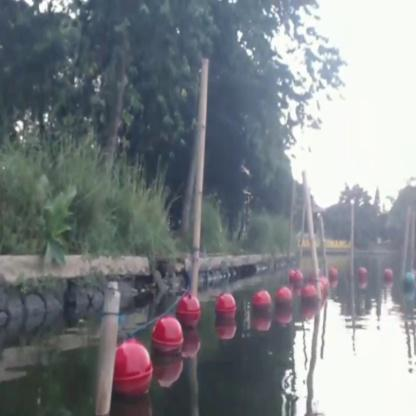green_buoy: (404, 270, 415, 296)
red_buoy: (118, 339, 152, 396), (152, 318, 184, 352), (177, 292, 202, 329), (216, 295, 238, 332), (250, 288, 272, 318), (300, 284, 316, 312), (276, 290, 292, 318), (382, 268, 394, 284), (330, 264, 338, 284), (294, 270, 302, 286), (287, 264, 294, 282), (356, 265, 362, 280)
